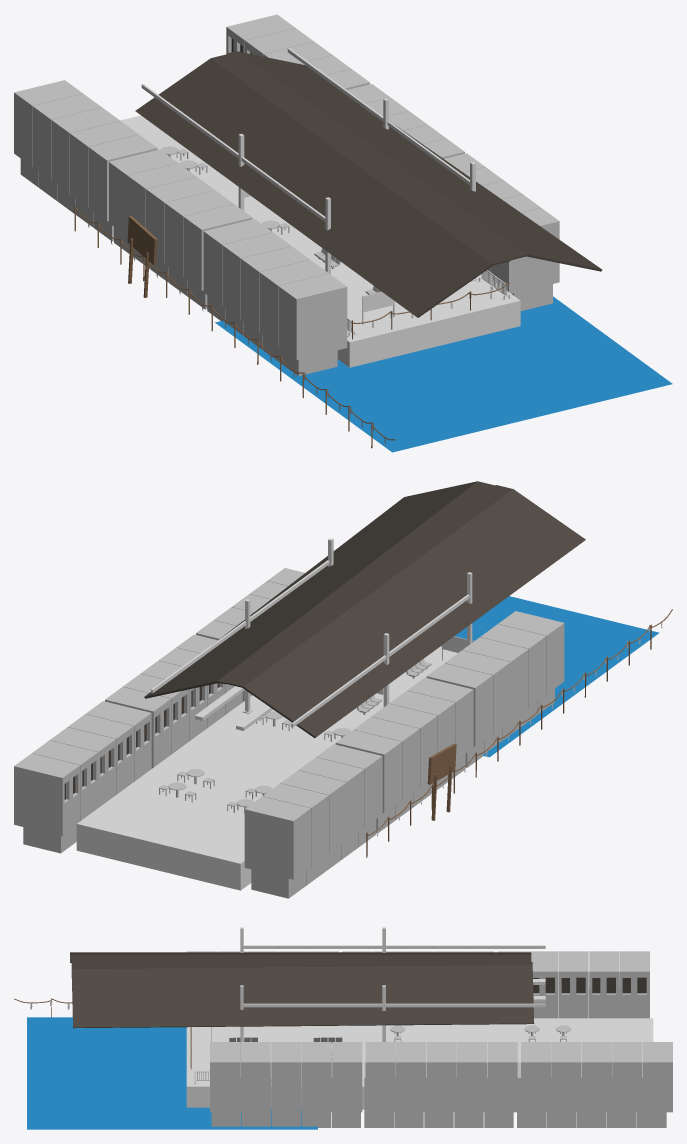
File: Station.fbx
The picture shows the model from 3 angles, top to bottom: view 1: azimuth 30°, elevation 25°; view 2: azimuth 150°, elevation 25°; view 3: azimuth 270°, elevation 25°; orthographic projection. The views are drawn at different scales.
Visible parts, largest first — view 1: StationCeiling_2, Train_1, Plane, Cube_1, Train, ヌル_4, Cube_11, Cube_9; view 2: StationCeiling_2, Train_1, Cube_1, Train, Plane, ヌル_4, Cube_11, Cube_9; view 3: Train, StationCeiling_2, Plane, Cube_1, Train_1, Cube_9, Cube_11, ヌル_4.
Part boxes in pixels (box(x1,y1,x2,y2)): StationCeiling_2: box(135, 51, 602, 317); Train_1: box(14, 80, 347, 376); Plane: box(215, 296, 672, 452); Cube_1: box(120, 115, 520, 367); Train: box(226, 14, 559, 310); ヌル_4: box(74, 146, 509, 448); Cube_11: box(141, 84, 325, 221); Cube_9: box(287, 48, 469, 185); StationCeiling_2: box(144, 481, 585, 738); Train_1: box(244, 611, 564, 898); Cube_1: box(76, 646, 457, 890); Train: box(14, 568, 304, 853); Plane: box(441, 596, 659, 757); ヌル_4: box(159, 609, 672, 857); Cube_11: box(291, 594, 469, 727); Cube_9: box(151, 560, 329, 693); Train: box(210, 1042, 672, 1127); StationCeiling_2: box(70, 952, 534, 1028); Plane: box(27, 1017, 317, 1129); Cube_1: box(186, 1018, 653, 1109); Train_1: box(187, 951, 649, 1018); Cube_9: box(241, 1003, 545, 1007); Cube_11: box(243, 945, 545, 948); ヌル_4: box(14, 998, 570, 1069).
Bounding box in the file's own units: 1820 × 910 × 4297.
